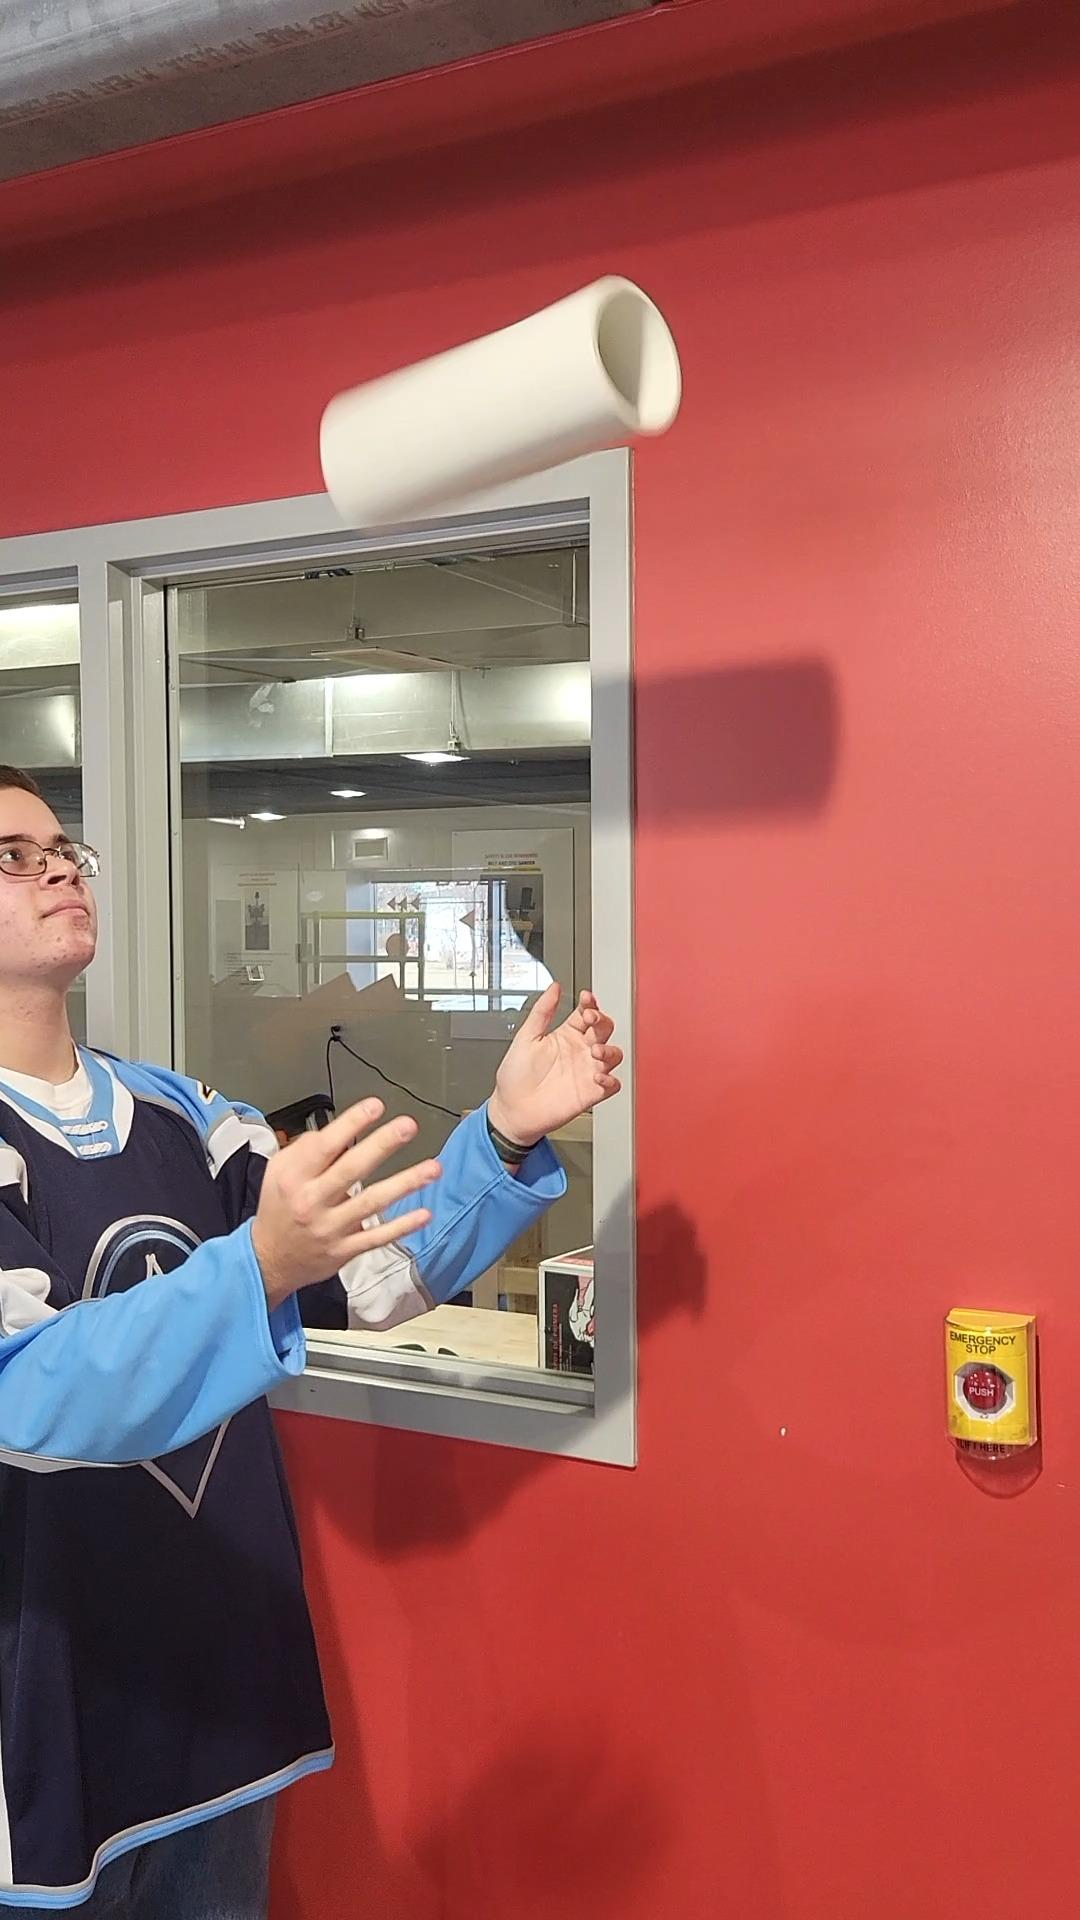coral: (316, 270, 696, 537)
